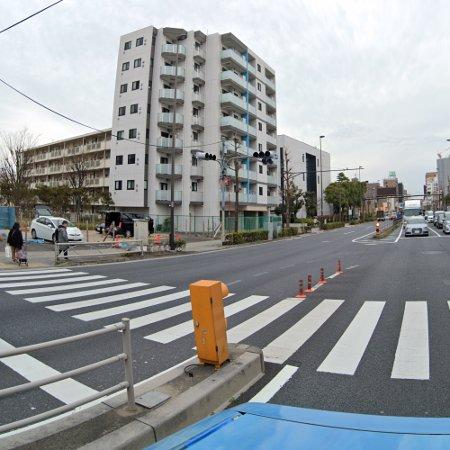crosswalks: (223, 293, 448, 383), (0, 266, 199, 349)
